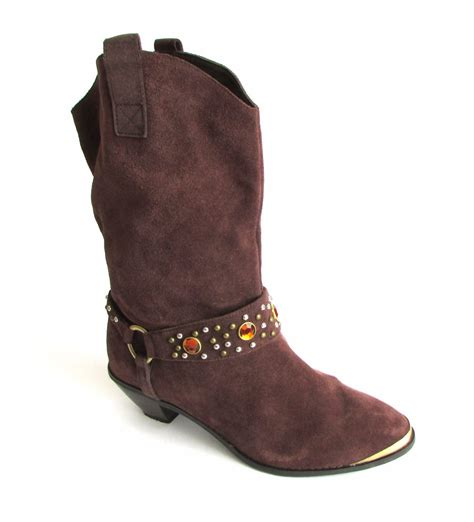gamuza: (73, 34, 411, 472)
